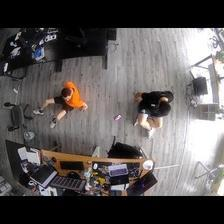fall: (31, 80, 87, 126), (133, 88, 170, 137)
